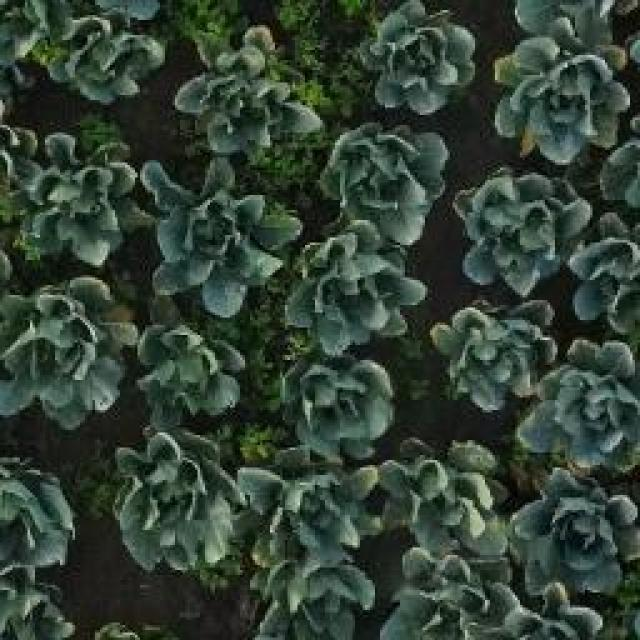cabbage: (0, 290, 130, 420), (285, 222, 414, 346), (119, 438, 243, 566), (147, 175, 282, 290), (17, 132, 134, 264), (524, 478, 637, 592), (508, 30, 618, 146), (193, 34, 312, 140), (243, 463, 374, 556), (327, 125, 446, 227), (366, 0, 474, 112), (532, 353, 640, 464), (463, 171, 572, 279), (387, 450, 501, 550), (34, 0, 151, 97), (285, 358, 396, 456), (134, 328, 244, 421), (438, 309, 534, 398)
